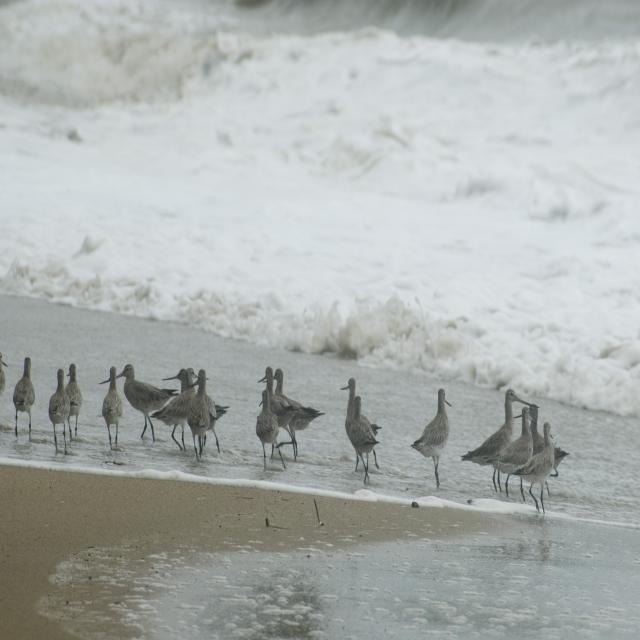bird: (460, 388, 569, 513), (254, 368, 327, 467), (157, 367, 228, 456), (115, 367, 189, 440), (341, 380, 384, 485), (411, 392, 458, 488), (47, 360, 82, 455), (99, 368, 128, 449), (12, 352, 36, 444)
